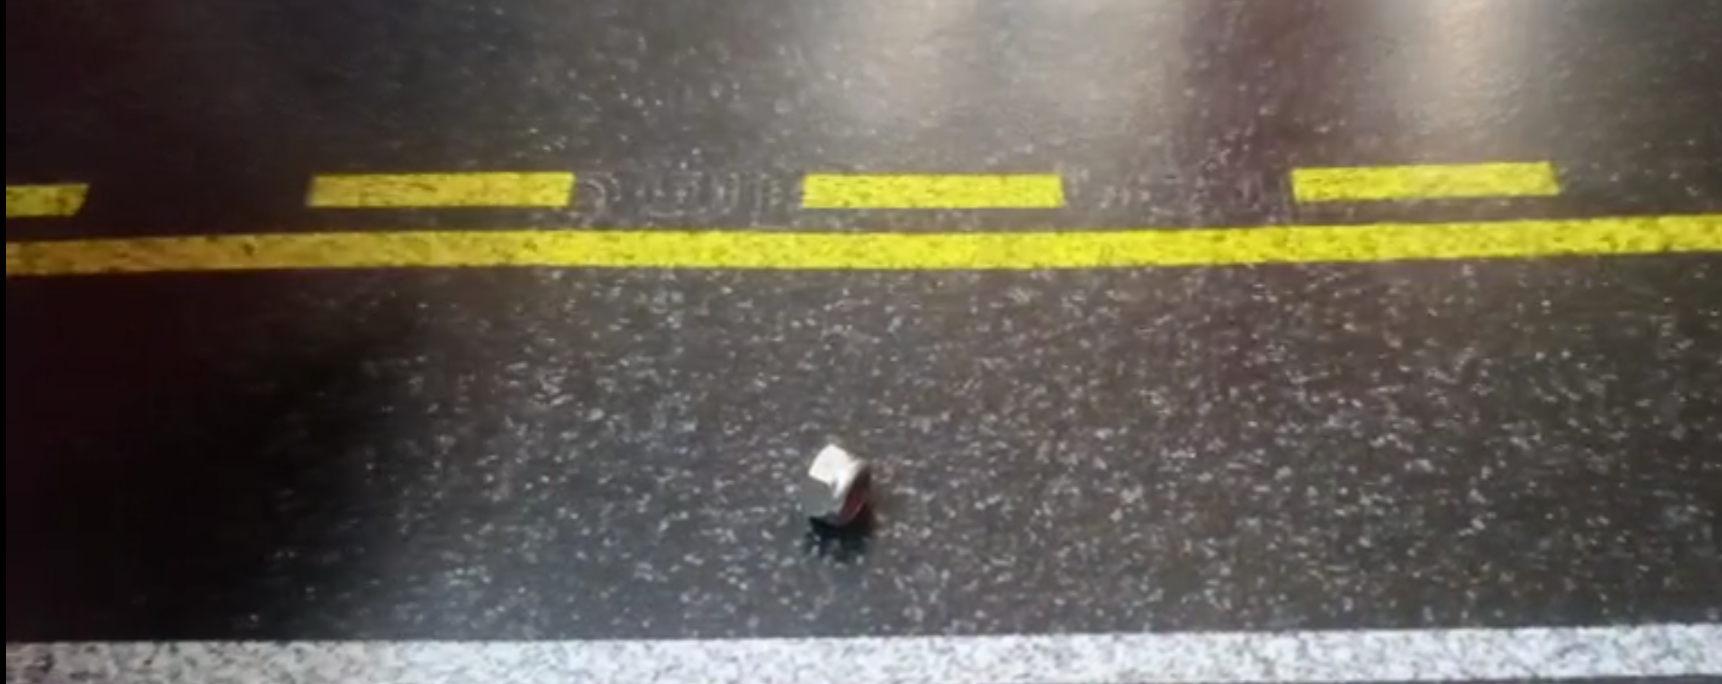metal: (793, 442, 885, 536)
